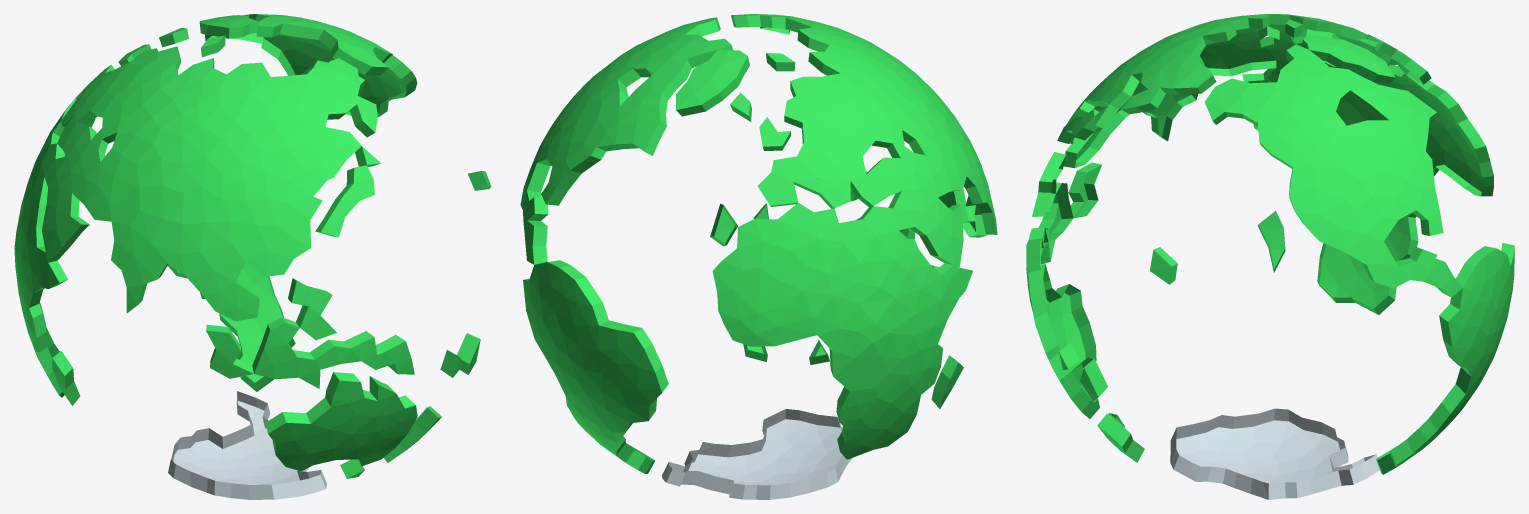
The model's file is earth_lowpoly_landmass.fbx.
The picture shows the model from 3 angles, left to right: view 1: azimuth 30°, elevation 25°; view 2: azimuth 150°, elevation 25°; view 3: azimuth 270°, elevation 25°; orthographic projection.
Visible parts, largest first — view 1: Earth Landmass; view 2: Earth Landmass; view 3: Earth Landmass.
Part boxes in pixels (x1=…): Earth Landmass: x1=14, y1=14, x2=491, y2=499; Earth Landmass: x1=520, y1=14, x2=997, y2=499; Earth Landmass: x1=1026, y1=14, x2=1514, y2=499.
Size of the model in its own units: 197 by 211 by 211.
